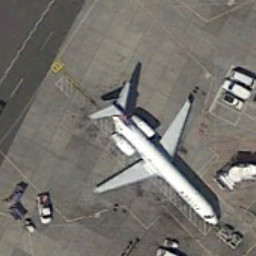Airplane: (80, 76, 226, 231)
